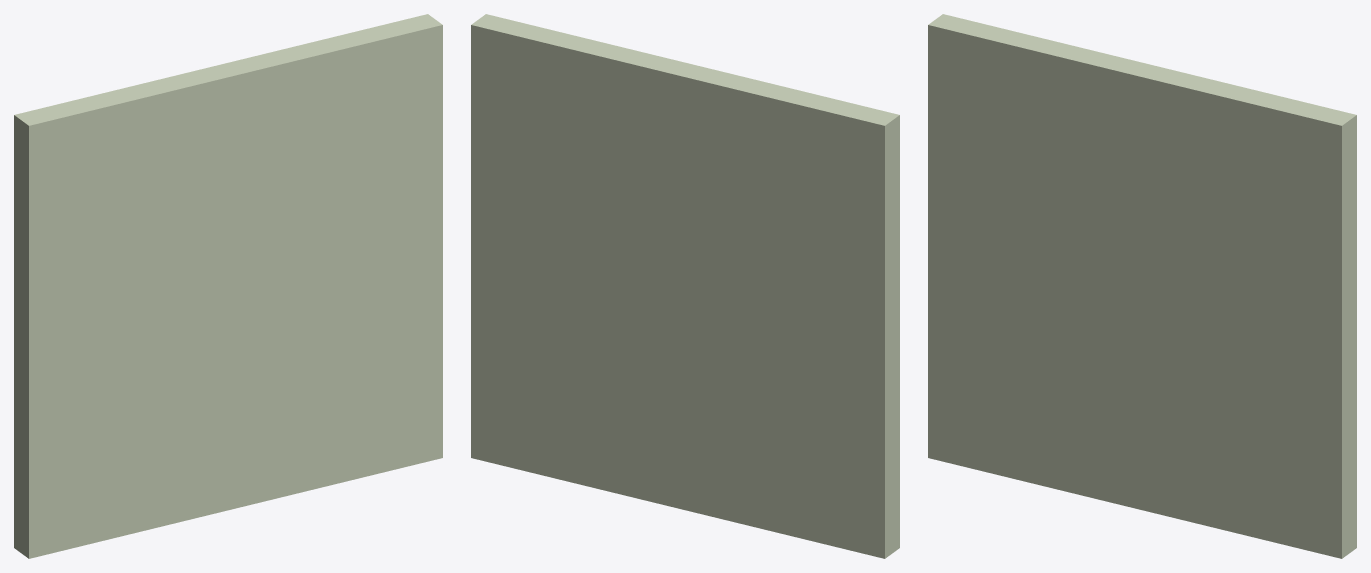
3 renders of one model, left to right at view 1: azimuth 30°, elevation 25°; view 2: azimuth 150°, elevation 25°; view 3: azimuth 330°, elevation 25°, orthographic.
Bounding box in the file's own units: 64 × 64 × 4.
